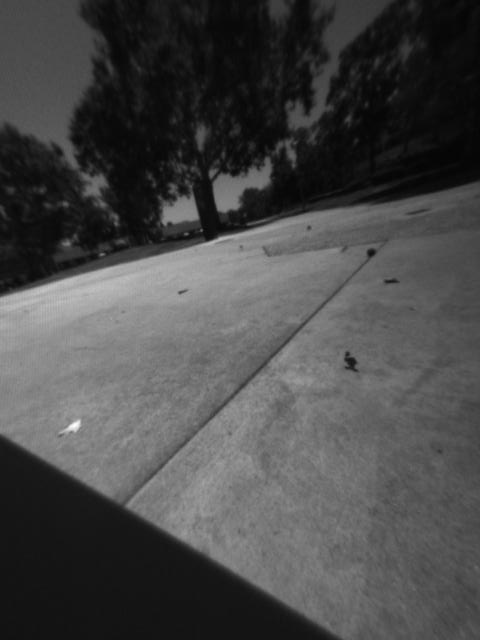dogtoy: (354, 237, 392, 269)
